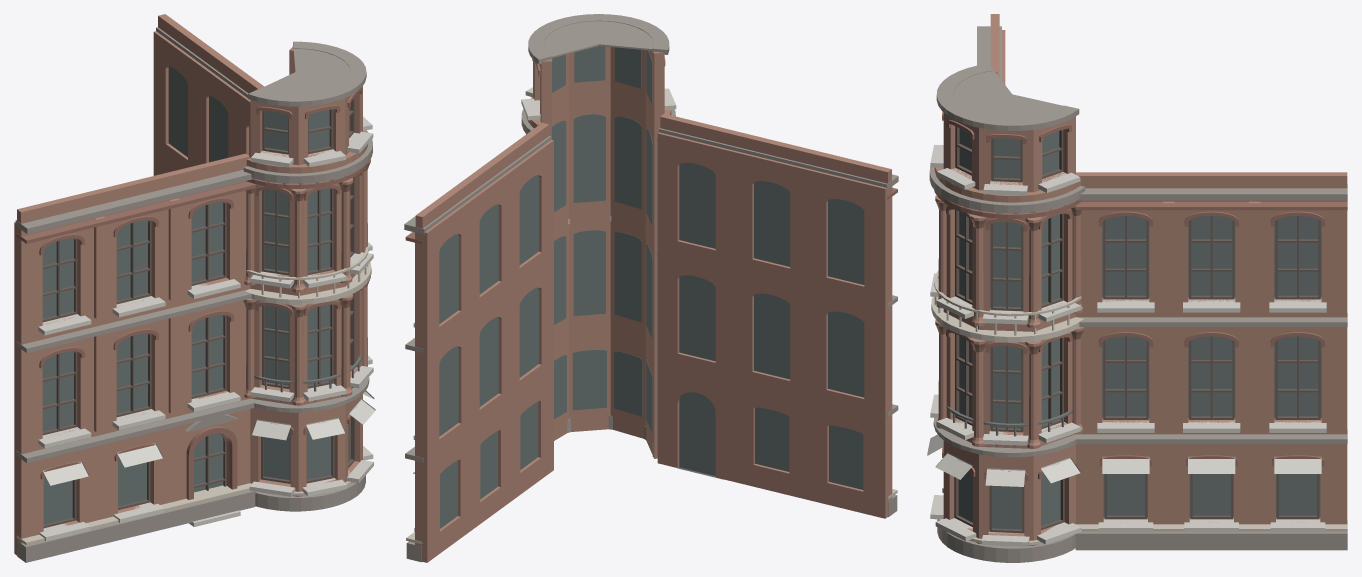
Rendered from huangpu-gibb-livingston-corner-lod.glb.
The picture shows the model from 3 angles, left to right: view 1: azimuth 30°, elevation 25°; view 2: azimuth 150°, elevation 25°; view 3: azimuth 270°, elevation 25°; orthographic projection. The views are drawn at different scales.
Parts seen in each view (by area): view 1: 仁记洋行大楼东南转角与相连街墙; view 2: 仁记洋行大楼东南转角与相连街墙; view 3: 仁记洋行大楼东南转角与相连街墙.
Part boxes in pixels (x1,y1,x2,y2): 仁记洋行大楼东南转角与相连街墙: (14,14,375,562); 仁记洋行大楼东南转角与相连街墙: (404,14,898,562); 仁记洋行大楼东南转角与相连街墙: (927,14,1347,562).
Bounding box in the file's own units: 12.69 × 14.23 × 12.24.
